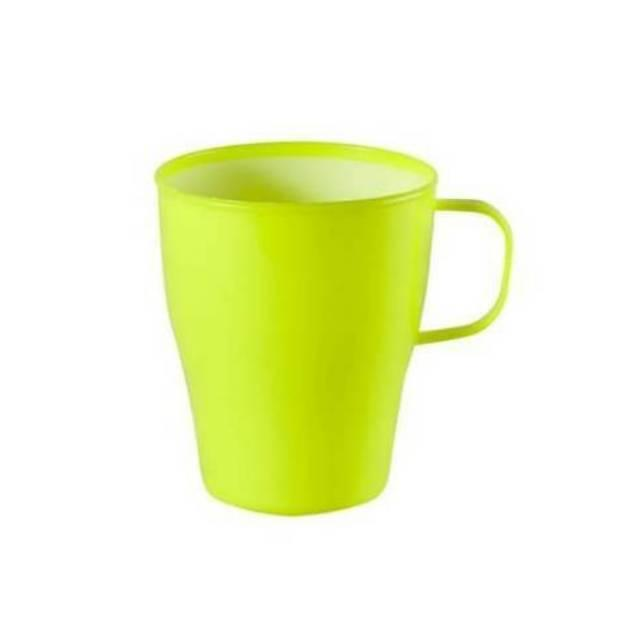Cangkir: (142, 120, 523, 522)
